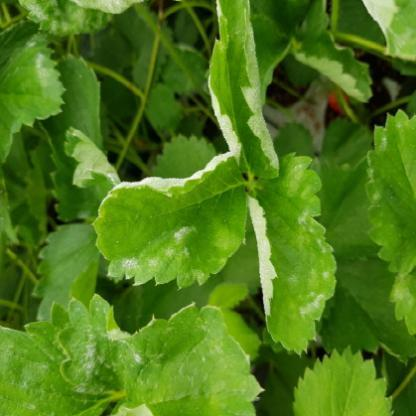Strawberry_Powdery_Mildew_Leaf: (90, 152, 248, 289), (244, 151, 338, 356), (110, 302, 268, 415), (0, 293, 135, 416), (205, 0, 281, 181), (0, 30, 68, 164), (16, 0, 149, 37)
